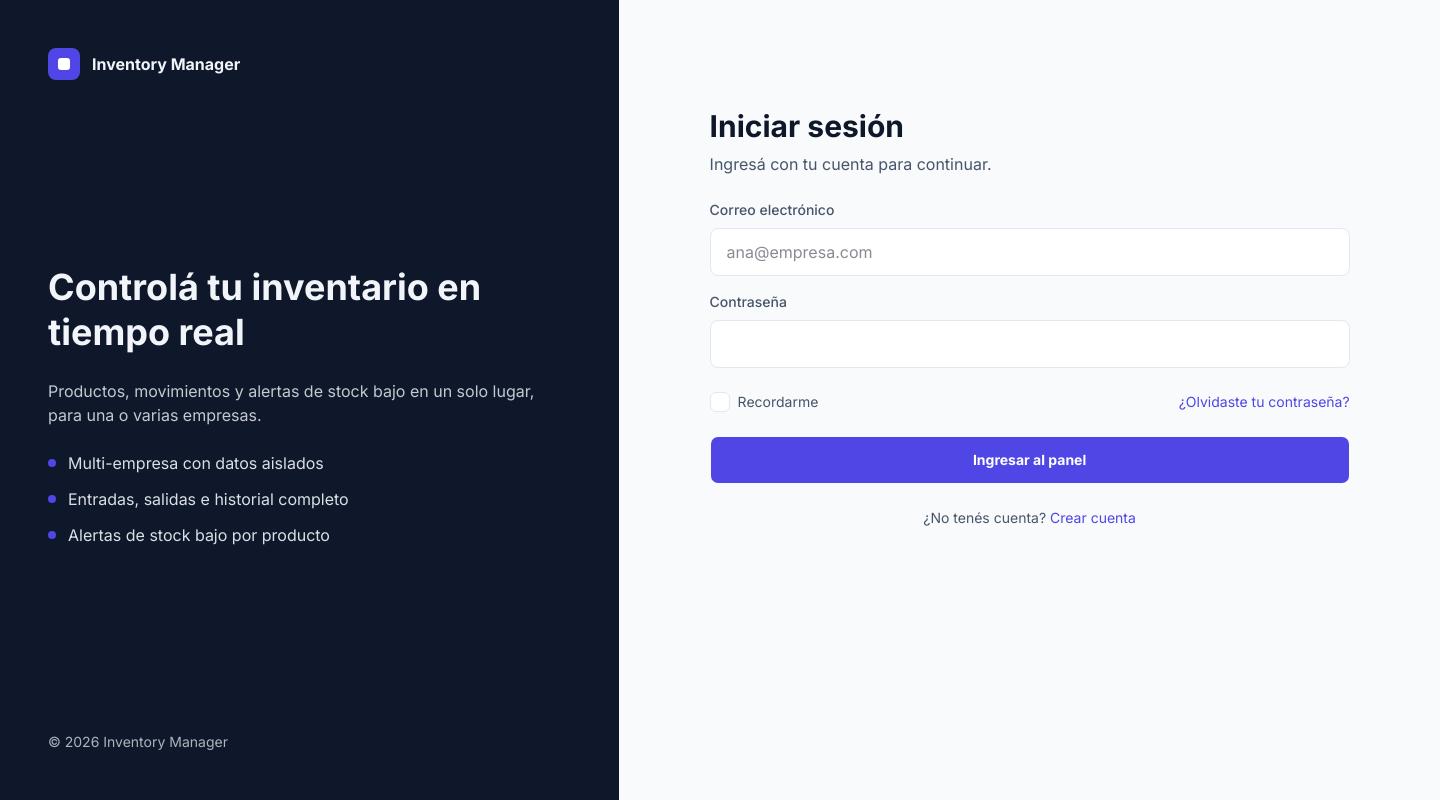
Test case: login view › shows the client validation errors when submitting empty
This screenshot has width=1440, height=800.
Click the button "Ingresar al panel": click(1030, 460) [710, 436, 1350, 484]
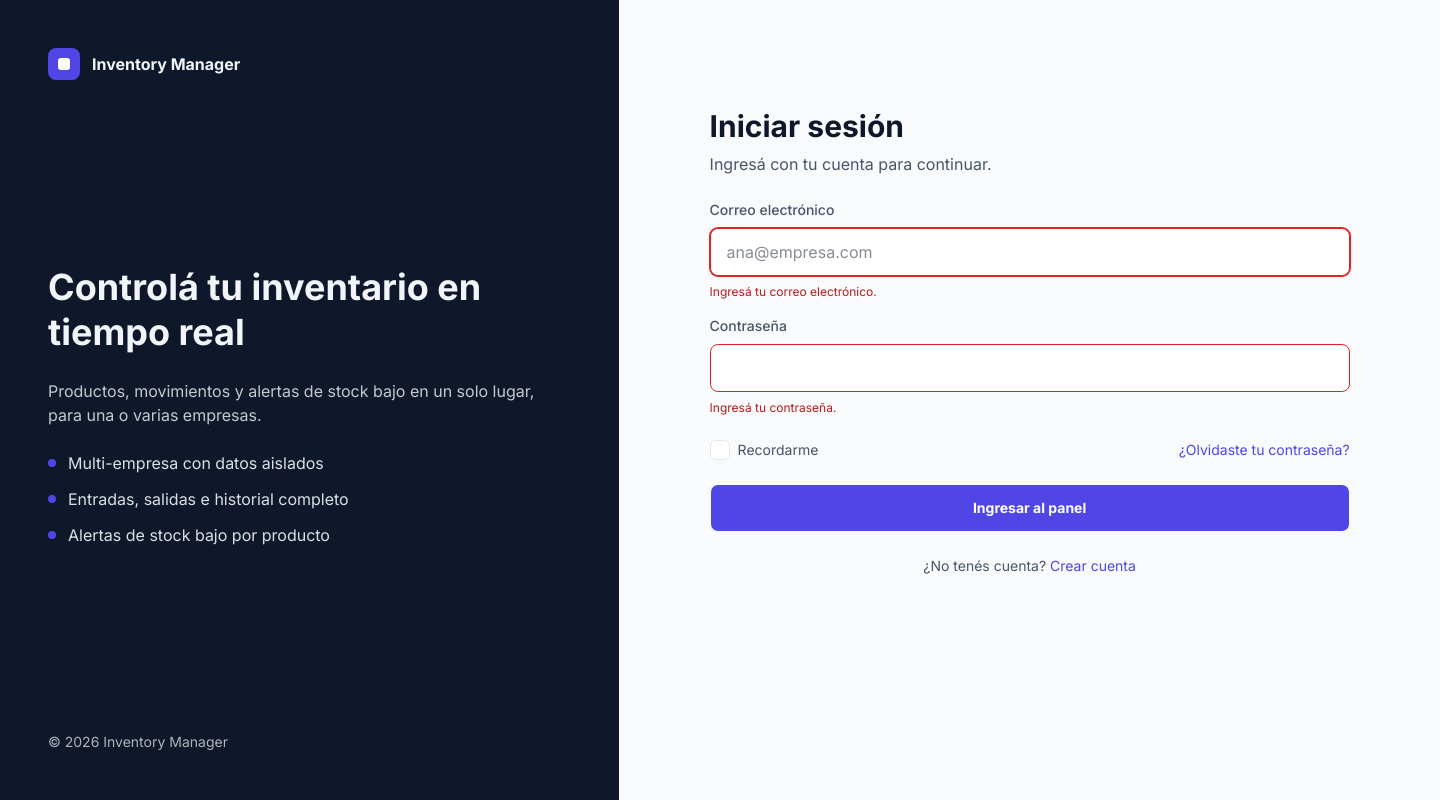
Result: the text "Ingresá tu correo electrónico." is shown at [710, 284, 877, 299]
Result: the text "Ingresá tu contraseña." is shown at [710, 400, 836, 415]
